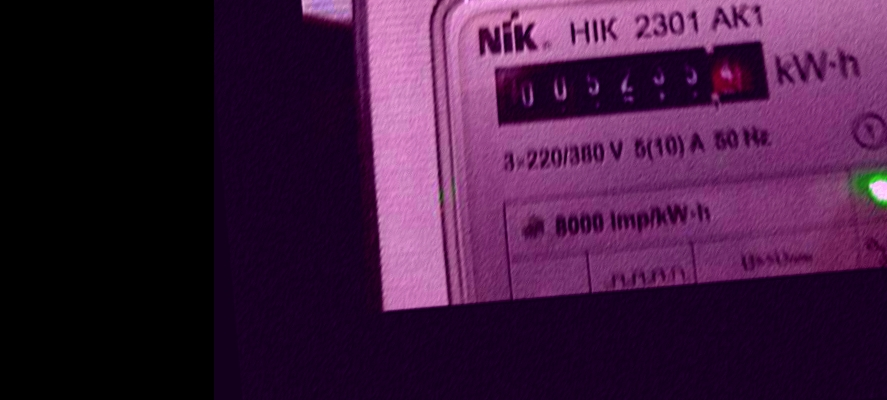0: (552, 71, 575, 106), (520, 78, 541, 110)
2: (617, 62, 641, 98)
3: (649, 57, 676, 92)
4: (718, 51, 743, 89)
5: (683, 53, 708, 91), (585, 66, 607, 101)
screen: (479, 27, 787, 141)
